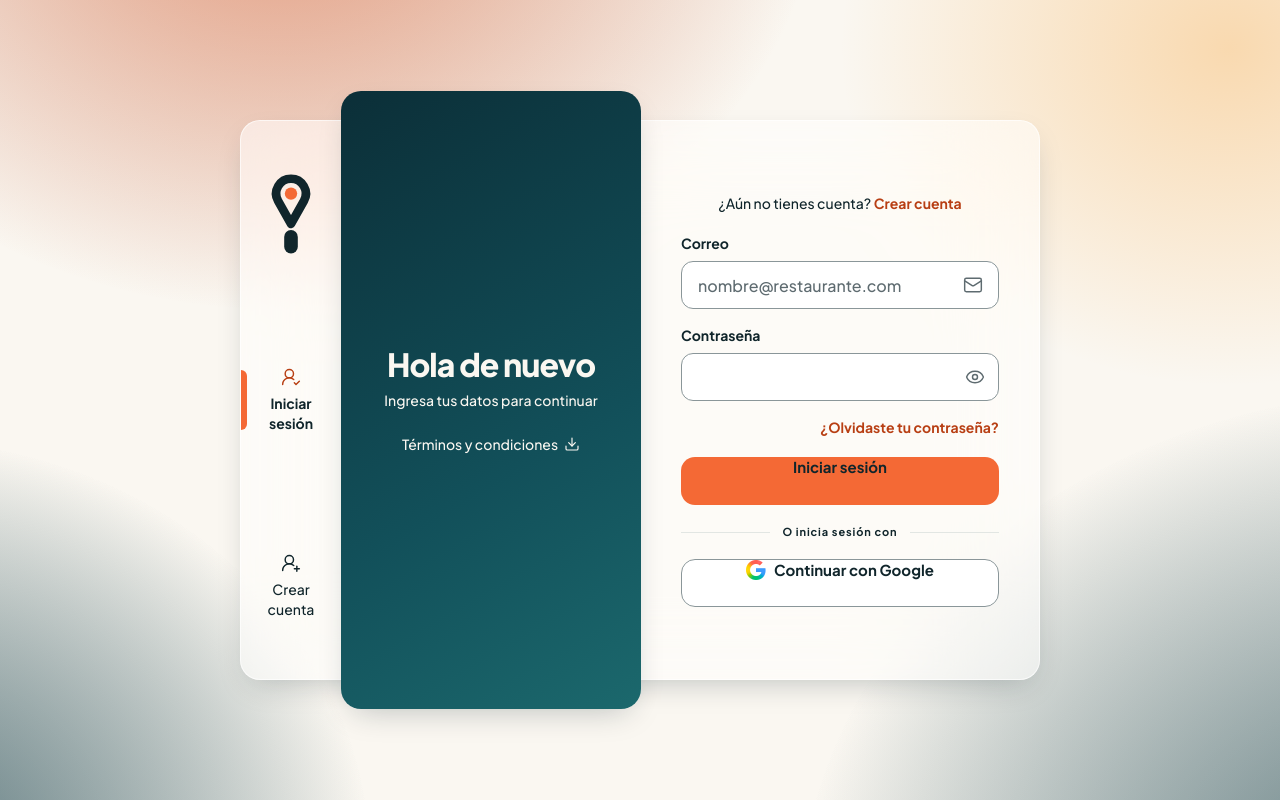
Scenario: LoginPage › shows the generic credentials error returned by auth-errors
This screenshot has width=1280, height=800.
Type "admin@restaurante.co" into the field labelled "Correo" at (840, 285), box [681,261,999,309]
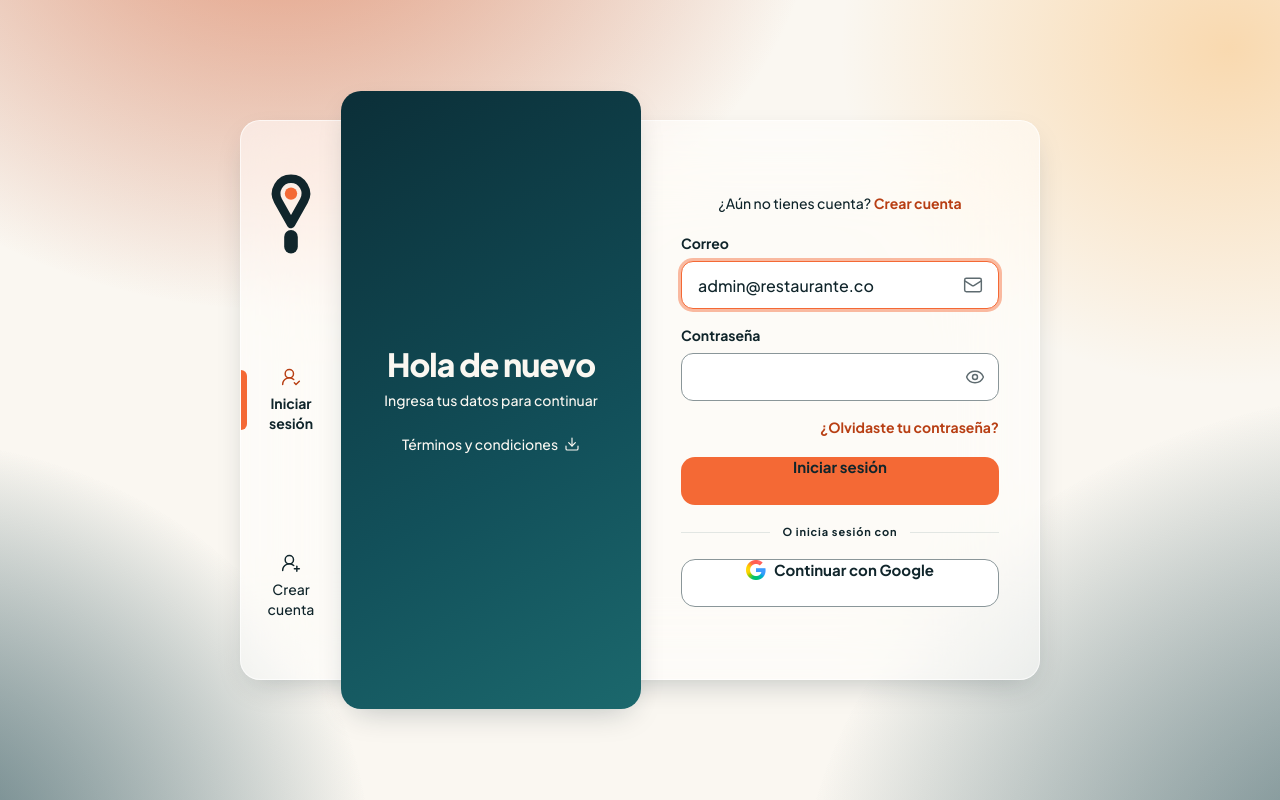
Type "incorrecta" into the password field labelled "Contraseña" at (840, 377), box [681,353,999,401]
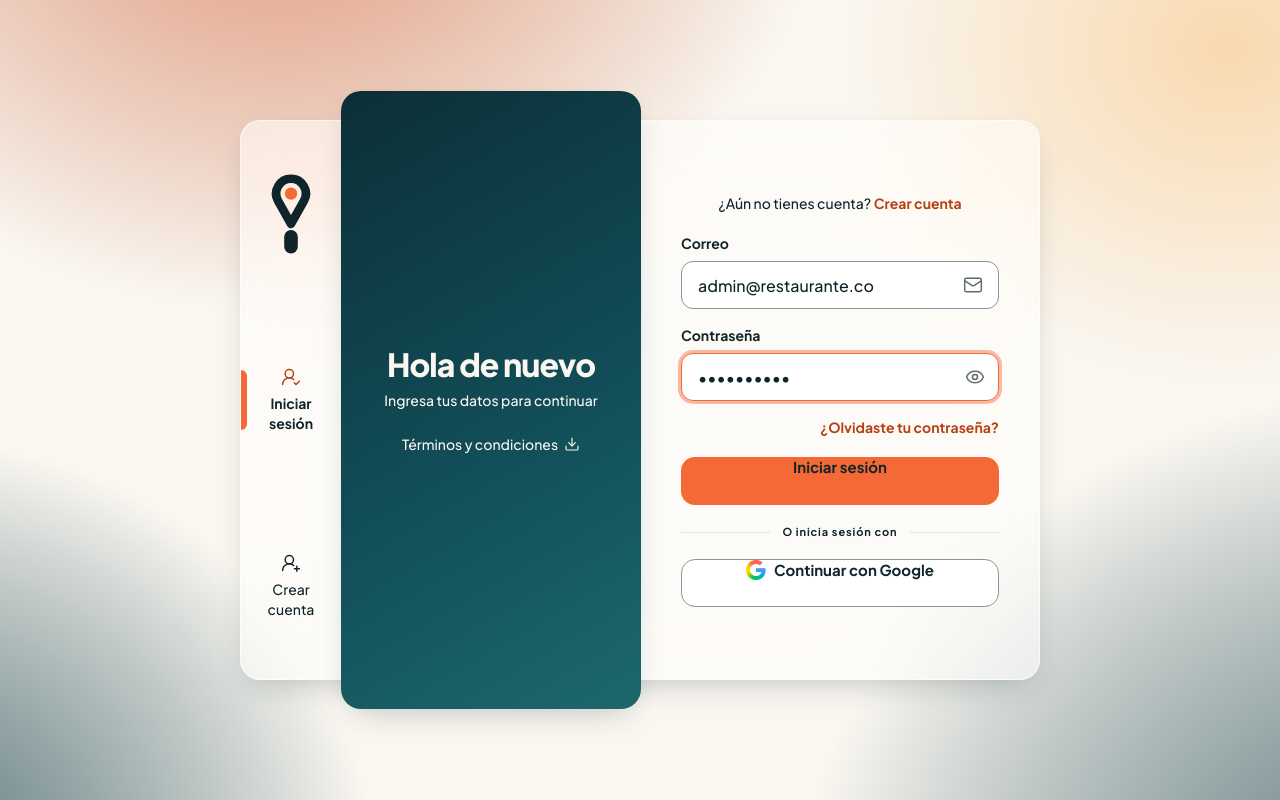
Click the button "Iniciar sesión" at (840, 466), box [681,457,999,505]
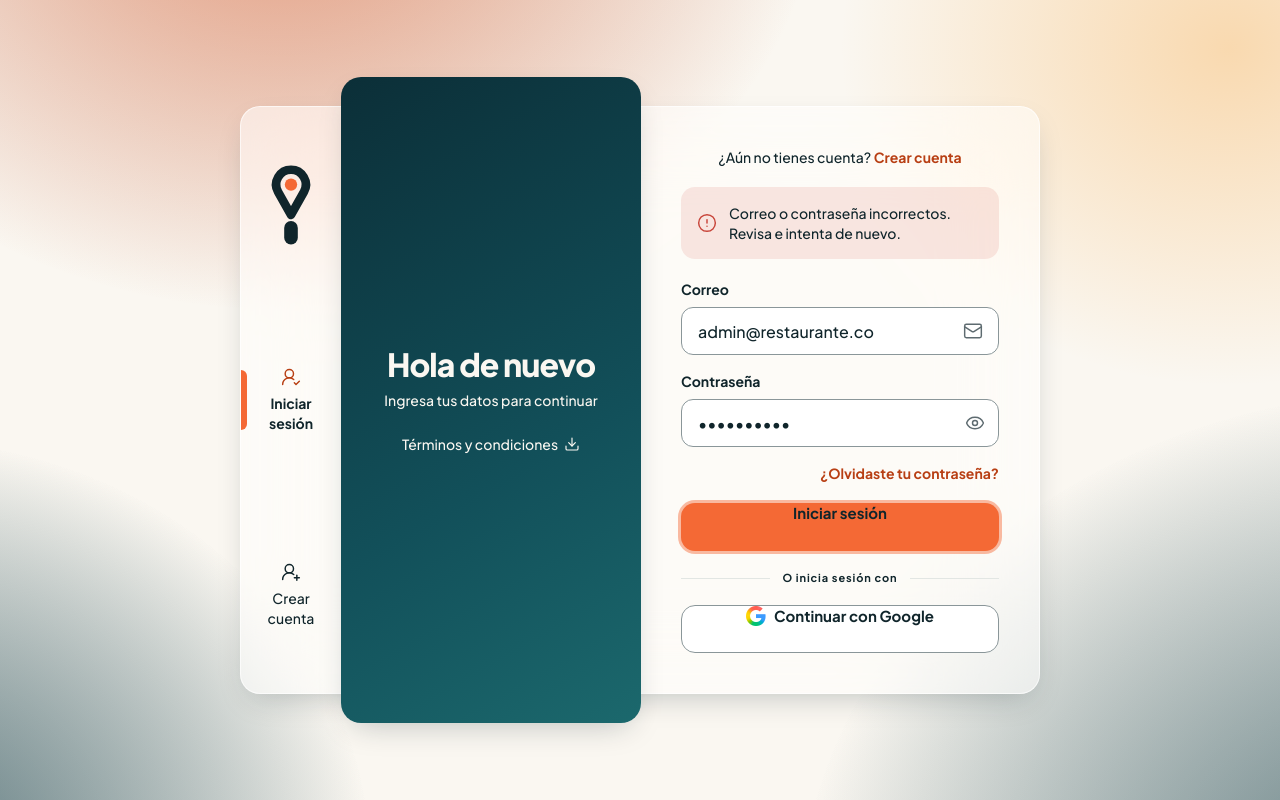
Result: the message reads "Correo o contraseña incorrectos. Revisa e intenta de nuevo." at [729,204,951,242]
